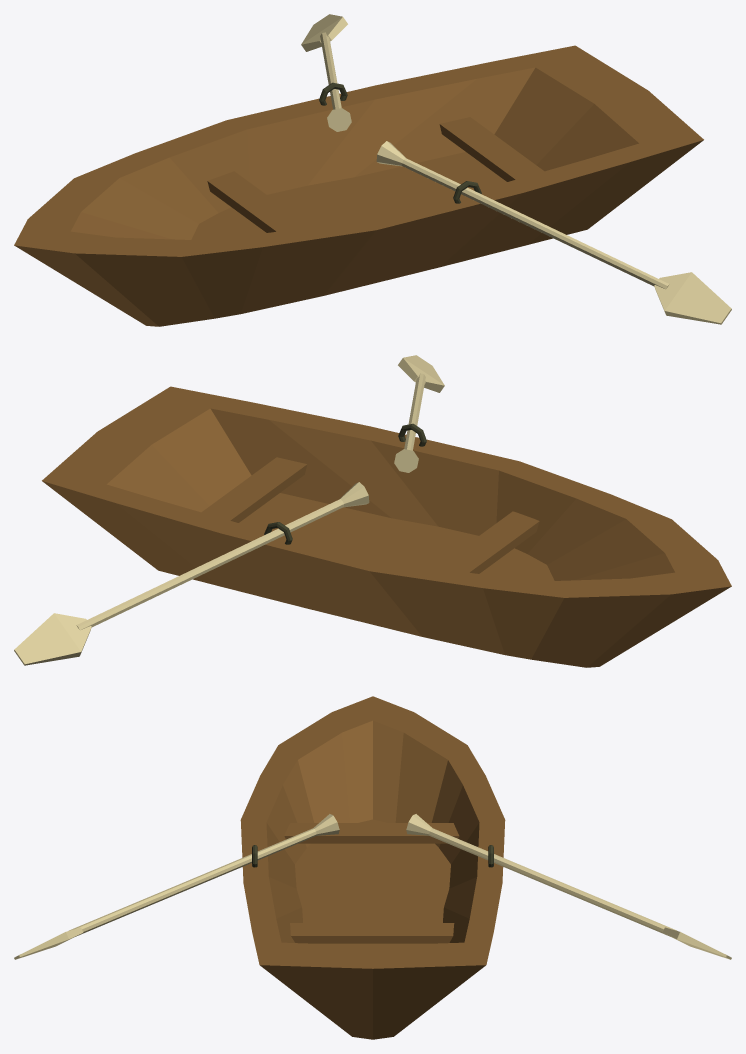
The model's file is Seperated-boat.fbx.
3 renders of one model, top to bottom at view 1: azimuth 30°, elevation 25°; view 2: azimuth 150°, elevation 25°; view 3: azimuth 270°, elevation 25°, orthographic. The views are drawn at different scales.
Parts seen in each view (by area): view 1: Hull, Oar-L, Plank, Plank.001, Oar-R; view 2: Hull, Oar-R, Plank, Plank.001, Oar-L; view 3: Hull, Plank, Oar-L, Oar-R, Plank.001.
Boxes of the visible parts, x1,y1,x2,y2 form: Hull: [14, 45, 703, 326]; Oar-L: [376, 141, 731, 324]; Plank: [439, 117, 544, 181]; Plank.001: [207, 171, 309, 232]; Oar-R: [301, 14, 351, 131]; Hull: [42, 386, 731, 667]; Oar-R: [14, 482, 369, 665]; Plank: [201, 457, 307, 522]; Plank.001: [436, 511, 539, 573]; Oar-L: [394, 355, 444, 472]; Hull: [240, 696, 505, 1039]; Plank: [290, 923, 454, 943]; Oar-L: [14, 814, 339, 959]; Oar-R: [406, 814, 731, 959]; Plank.001: [284, 823, 459, 843].
Size of the model in its own units: 426 by 95 by 474.
